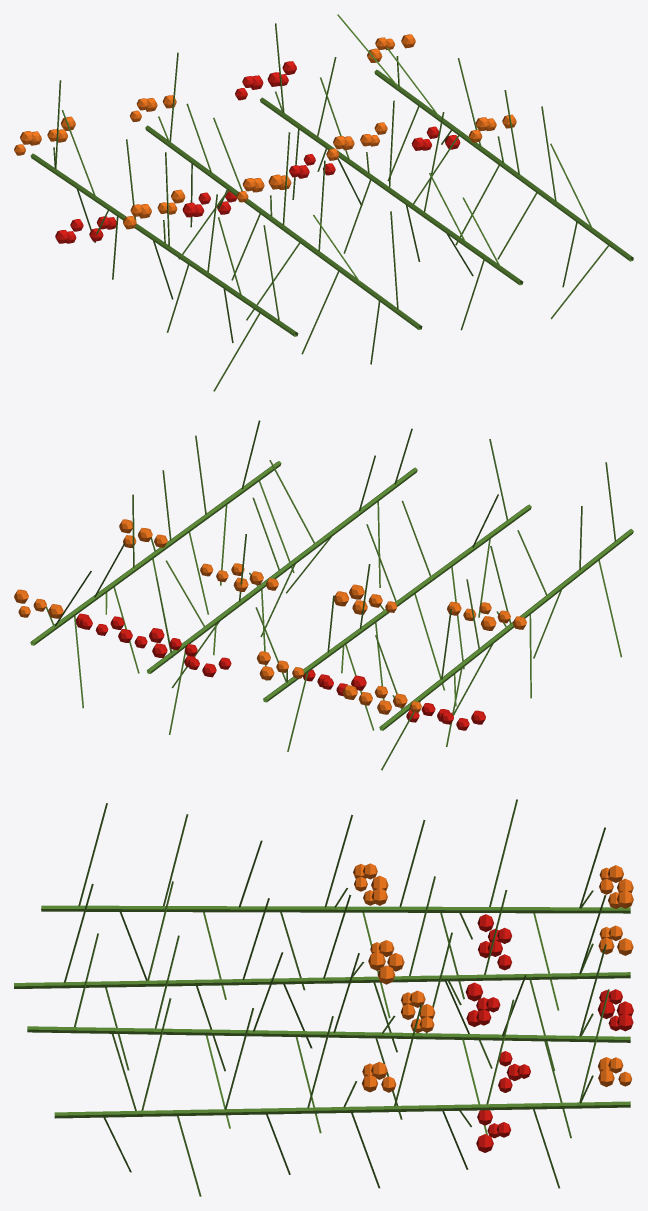
Rendered from r19c0_stems.obj.
3 renders of one model, top to bottom at view 1: azimuth 30°, elevation 25°; view 2: azimuth 150°, elevation 25°; view 3: azimuth 270°, elevation 25°, orthographic. The views are drawn at different scales.
Visible parts, largest first — view 1: r19c0_stems; view 2: r19c0_stems; view 3: r19c0_stems.
Part boxes in pixels (x1,y1,x2,y2): r19c0_stems: (14, 14, 633, 391); r19c0_stems: (14, 420, 633, 770); r19c0_stems: (14, 799, 633, 1196).
Bounding box in the file's own units: 2.04 × 0.8921 × 2.3.
